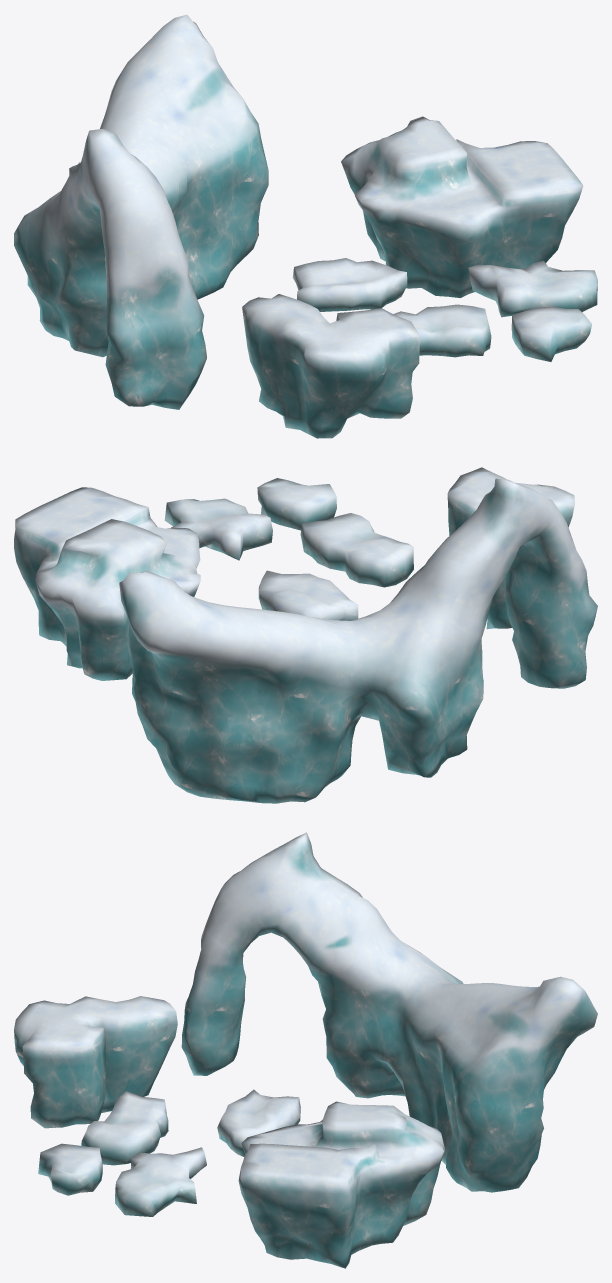
The model's file is ice_glacier.glb.
3 renders of one model, top to bottom at view 1: azimuth 30°, elevation 25°; view 2: azimuth 150°, elevation 25°; view 3: azimuth 270°, elevation 25°, orthographic. The views are drawn at different scales.
Parts seen in each view (by area): view 1: Ice Field_LP; view 2: Ice Field_LP; view 3: Ice Field_LP.
Part boxes in pixels (x1=…): Ice Field_LP: x1=14, y1=14, x2=597, y2=438; Ice Field_LP: x1=14, y1=467, x2=597, y2=803; Ice Field_LP: x1=14, y1=832, x2=597, y2=1268.
Bounding box in the file's own units: 21.4 × 11.17 × 22.66.
1 material, 1 textured.
